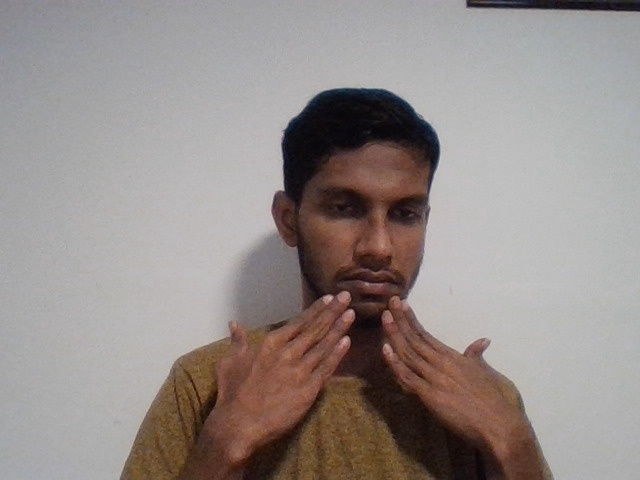thanks: (166, 285, 548, 460)
